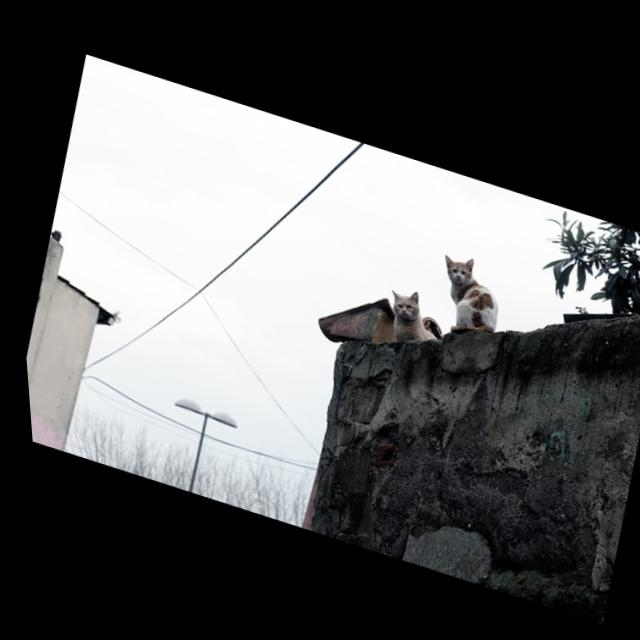animals: (440, 250, 490, 328), (381, 282, 429, 336)
